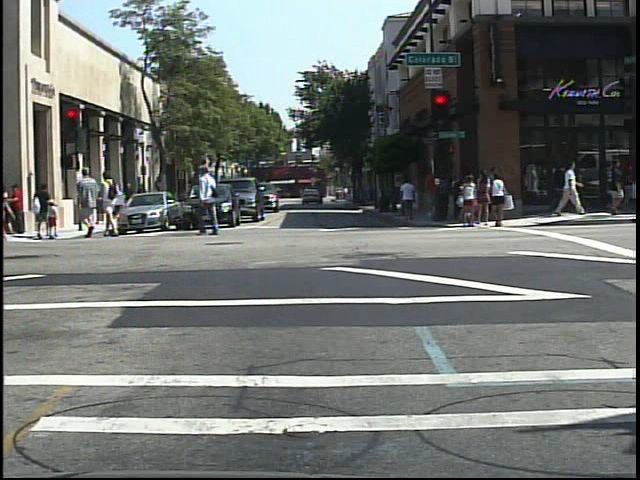person: (194, 163, 227, 237), (72, 164, 101, 243), (100, 167, 124, 238)
